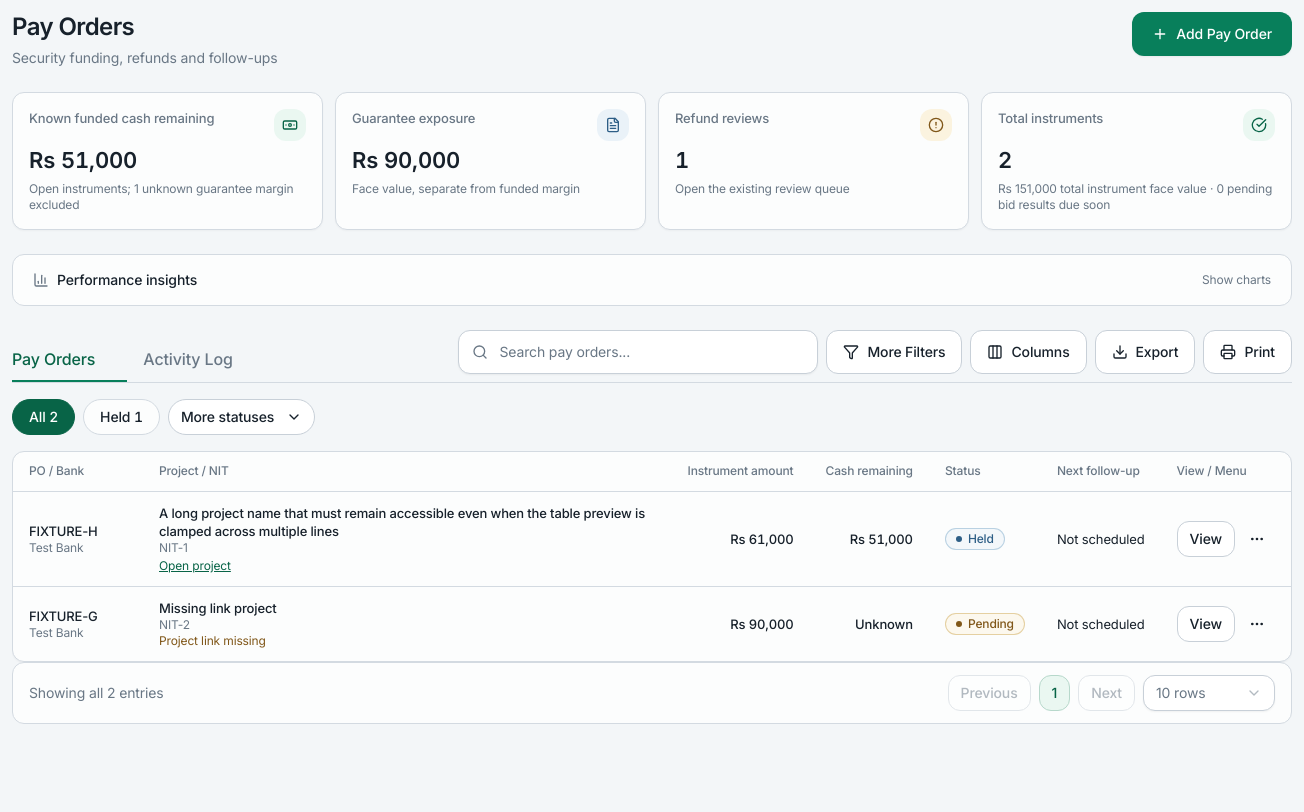
Test: pay order list with disposable records › keeps known cash distinct from unknown guarantee margin and exposes optional columns
Expected: the text "Open instruments; 1 unknown guarantee margin excluded" is shown, [29,180,306,212]
Expected: the button "FIXTURE-H" is shown, [29,522,98,540]
Click the button "Columns" at (1028, 352), box [970,330,1086,374]
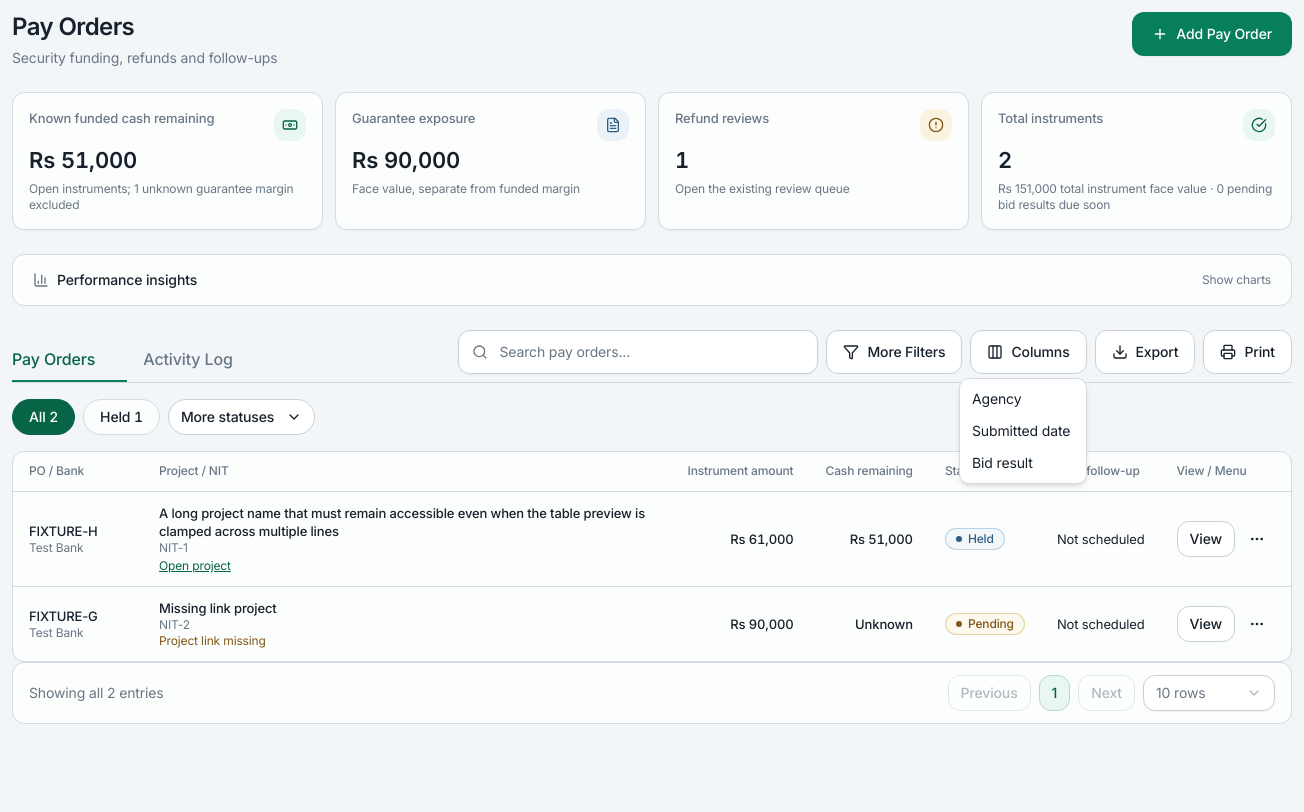
Click the menu item "Agency" at (997, 398), box [972,390,1021,407]
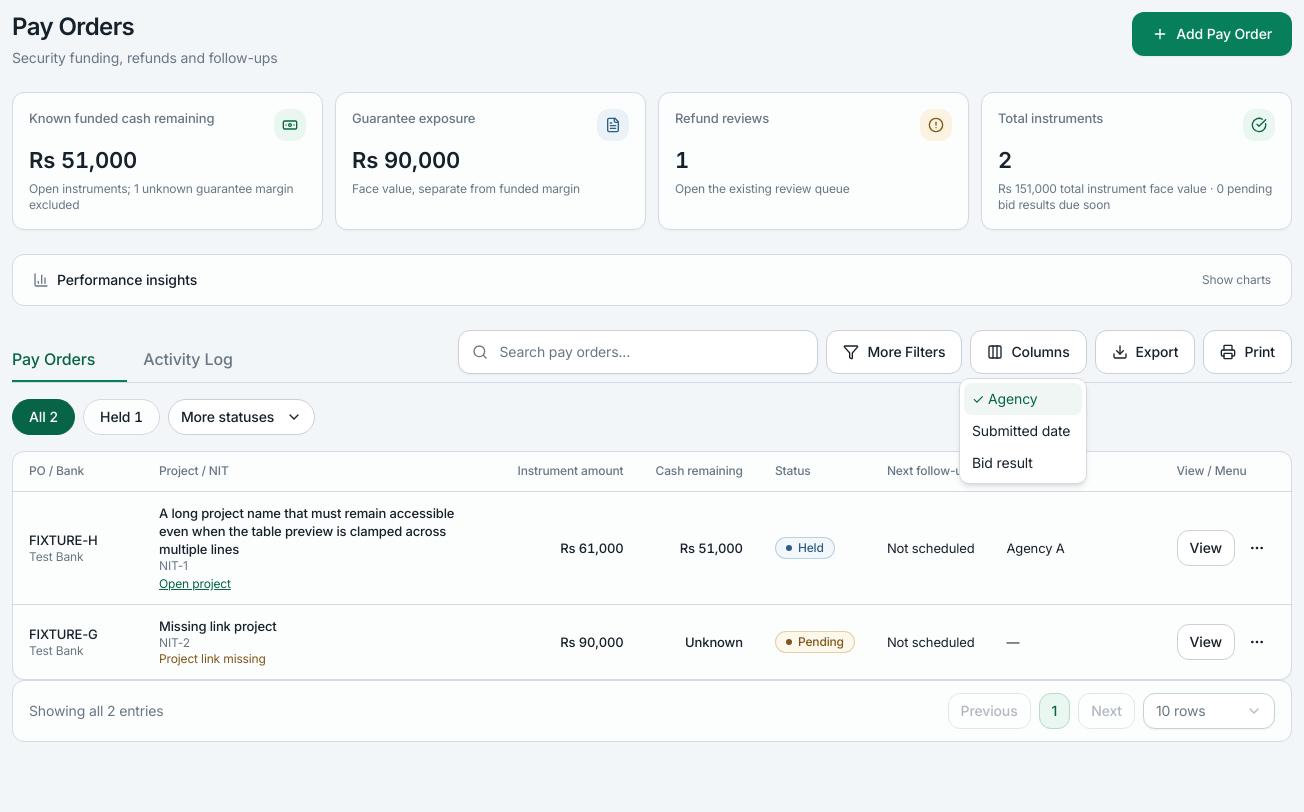
Now the column heading "Agency" is shown, box [990,452,1160,492]
